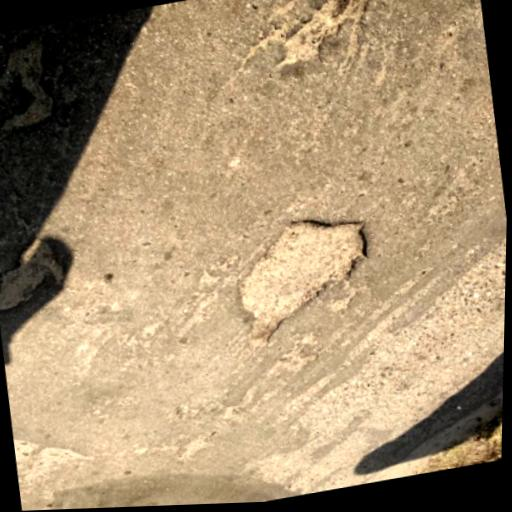pothole: (221, 204, 388, 356), (260, 0, 386, 74)
